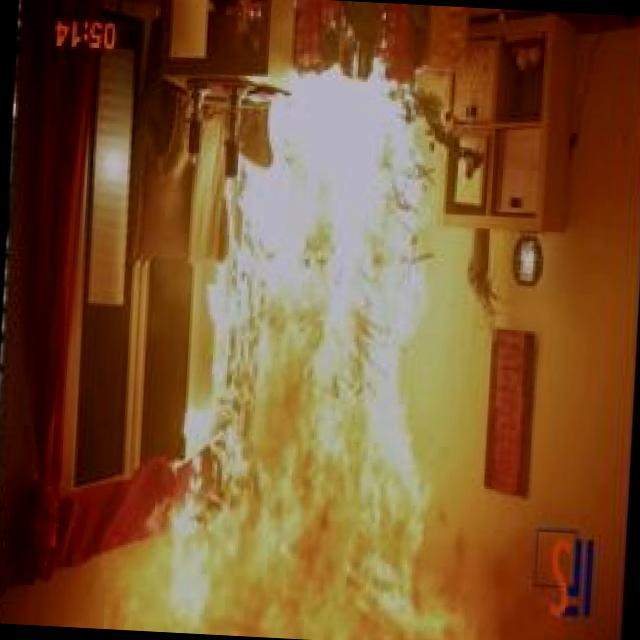fire: (133, 46, 543, 640)
